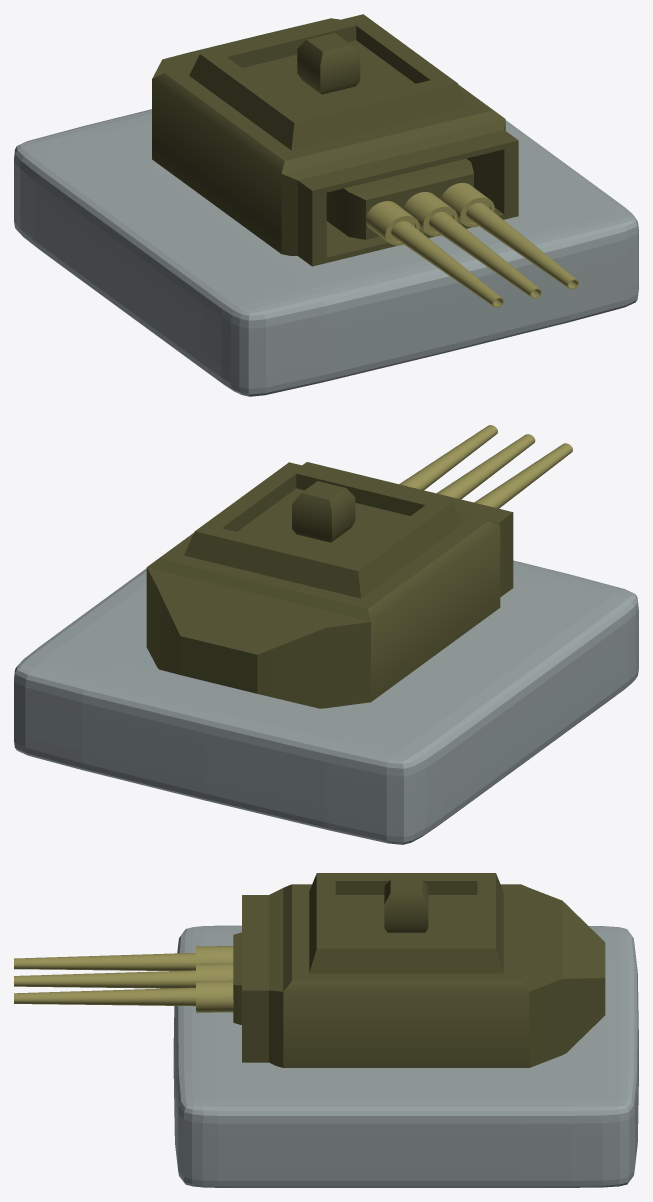
Rendered from ByteSweeper.fbx.
The picture shows the model from 3 angles, top to bottom: view 1: azimuth 30°, elevation 25°; view 2: azimuth 150°, elevation 25°; view 3: azimuth 270°, elevation 25°; orthographic projection. The views are drawn at different scales.
Visible parts, largest first — view 1: Mark 1 roots, Mark 1 body, gun 1, gun 2, gun 3; view 2: Mark 1 roots, Mark 1 body, gun 2, gun 1, gun 3; view 3: Mark 1 roots, Mark 1 body, gun 3, gun 1, gun 2.
Part boxes in pixels (x1,y1,x2,y2): Mark 1 roots: (14,109,638,396); Mark 1 body: (152,14,518,266); gun 1: (365,201,504,307); gun 2: (403,192,541,298); gun 3: (441,183,578,289); Mark 1 roots: (14,560,638,844); Mark 1 body: (146,462,513,708); gun 2: (436,434,535,499); gun 1: (474,443,572,508); gun 3: (399,425,497,490); Mark 1 roots: (173,925,638,1187); Mark 1 body: (233,873,605,1067); gun 3: (14,980,233,1012); gun 1: (14,946,233,970); gun 2: (14,963,233,988).
Bounding box in the file's own units: 204 × 108 × 285.
